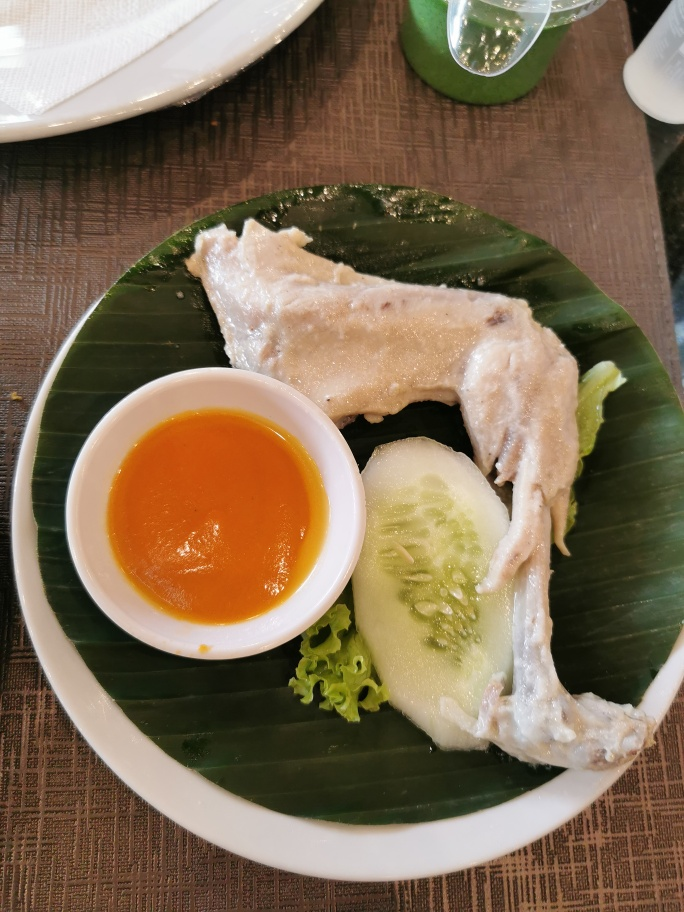ayam pop: (190, 219, 653, 772)
extra: (69, 359, 517, 778)
